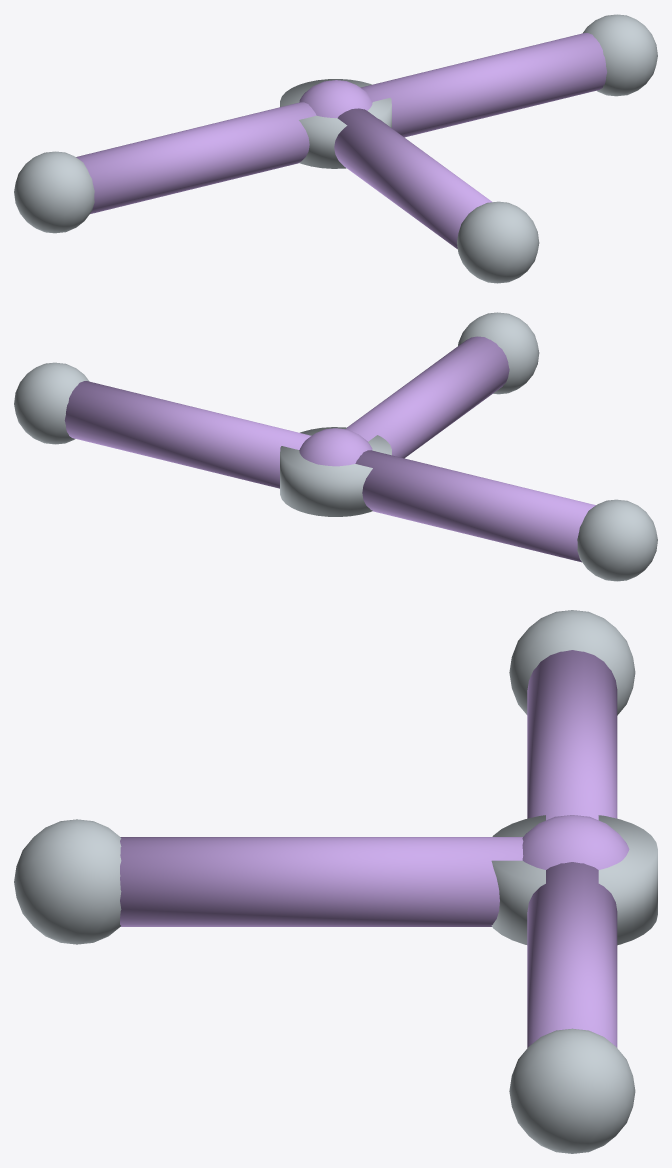
File: conduit_splitter_ultra.glb
3 renders of one model, top to bottom at view 1: azimuth 30°, elevation 25°; view 2: azimuth 150°, elevation 25°; view 3: azimuth 270°, elevation 25°, orthographic. The views are drawn at different scales.
Parts seen in each view (by area): view 1: Conduit_purple, Coupler_steel, JunctionCap_steel, Junction_purple; view 2: Conduit_purple, Coupler_steel, JunctionCap_steel, Junction_purple; view 3: Conduit_purple, Coupler_steel, JunctionCap_steel, Junction_purple.
Part boxes in pixels (bbox=[...]): Conduit_purple: bbox=[76, 33, 606, 248]; Coupler_steel: bbox=[14, 14, 657, 283]; JunctionCap_steel: bbox=[280, 79, 391, 168]; Junction_purple: bbox=[299, 80, 372, 118]; Conduit_purple: bbox=[64, 336, 595, 562]; Coupler_steel: bbox=[14, 312, 657, 581]; JunctionCap_steel: bbox=[280, 427, 391, 516]; Junction_purple: bbox=[299, 428, 372, 466]; Conduit_purple: bbox=[120, 650, 617, 1047]; Coupler_steel: bbox=[14, 610, 635, 1153]; JunctionCap_steel: bbox=[491, 815, 657, 945]; Junction_purple: bbox=[522, 815, 629, 869].
Size of the model in its own units: 2.48 by 0.3 by 1.43.
